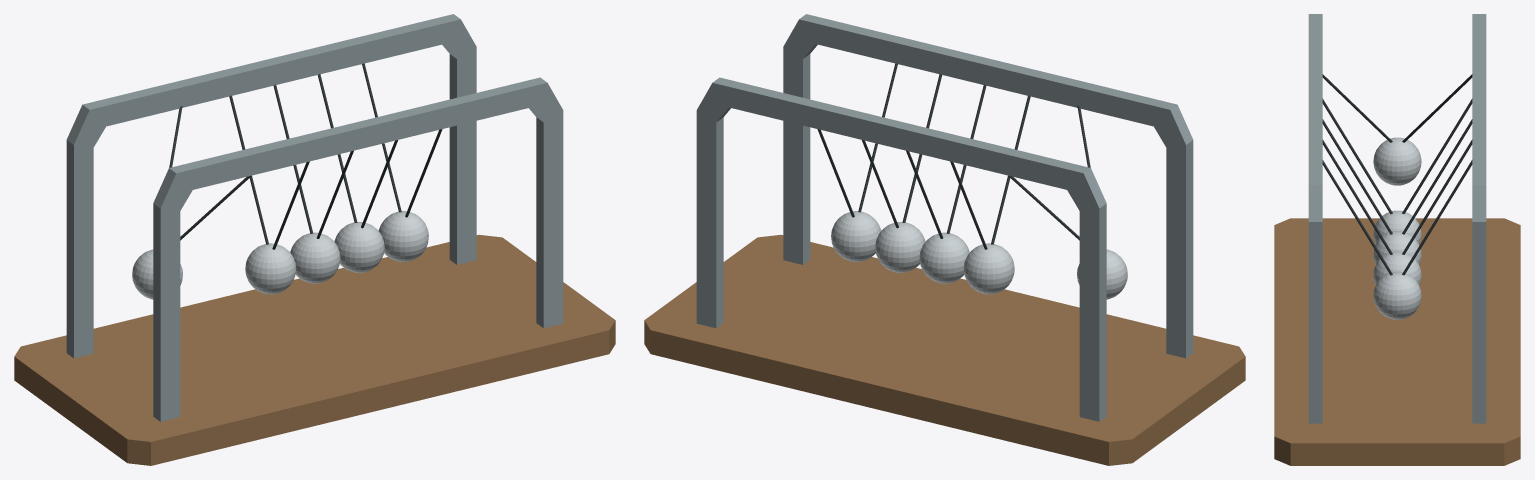
3 views of the same model, side by side, from view 1: azimuth 30°, elevation 25°; view 2: azimuth 150°, elevation 25°; view 3: azimuth 270°, elevation 25° (orthographic). The views are drawn at different scales.
Visible parts, largest first — view 1: WholeChamferedGroundBase, WholeFrontContinuousSuspensionFrame, WholeRearContinuousSuspensionFrame, WholeSuspendedSphere2, WholeSuspendedSphere3, WholeSuspendedSphere5, WholeSuspendedSphere4, WholeSuspendedSphere1; view 2: WholeChamferedGroundBase, WholeRearContinuousSuspensionFrame, WholeFrontContinuousSuspensionFrame, WholeSuspendedSphere2, WholeSuspendedSphere3, WholeSuspendedSphere5, WholeSuspendedSphere4, WholeSuspendedSphere1; view 3: WholeChamferedGroundBase, WholeFrontContinuousSuspensionFrame, WholeRearContinuousSuspensionFrame, WholeSuspendedSphere5, WholeSuspendedSphere1, WholeSuspendedSphere4, WholeSuspendedSphere3, WholeSuspendedSphere2, WholeSphere5FrontSuspensionCord, WholeSphere5RearSuspensionCord, WholeSphere2FrontSuspensionCord, WholeSphere2RearSuspensionCord (+6 smaller).
Boxes of the visible parts, x1,y1,x2,y2 form: WholeChamferedGroundBase: (14,234,615,465); WholeFrontContinuousSuspensionFrame: (153,77,563,421); WholeRearContinuousSuspensionFrame: (66,14,476,358); WholeSuspendedSphere2: (245,243,296,294); WholeSuspendedSphere3: (290,232,340,283); WholeSuspendedSphere5: (378,211,428,261); WholeSuspendedSphere4: (334,222,384,272); WholeSuspendedSphere1: (132,249,182,299); WholeChamferedGroundBase: (644,234,1245,465); WholeRearContinuousSuspensionFrame: (696,77,1106,421); WholeFrontContinuousSuspensionFrame: (783,14,1193,358); WholeSuspendedSphere2: (963,243,1014,294); WholeSuspendedSphere3: (919,232,969,283); WholeSuspendedSphere5: (831,211,881,261); WholeSuspendedSphere4: (875,222,925,272); WholeSuspendedSphere1: (1077,249,1127,299); WholeChamferedGroundBase: (1274,218,1520,465); WholeFrontContinuousSuspensionFrame: (1308,14,1322,423); WholeRearContinuousSuspensionFrame: (1472,14,1486,423); WholeSuspendedSphere5: (1373,271,1421,319); WholeSuspendedSphere1: (1373,137,1421,185); WholeSuspendedSphere4: (1373,251,1421,284); WholeSuspendedSphere3: (1373,231,1421,264); WholeSuspendedSphere2: (1373,210,1421,244); WholeSphere5FrontSuspensionCord: (1322,160,1392,275); WholeSphere5RearSuspensionCord: (1402,160,1472,275); WholeSphere2FrontSuspensionCord: (1322,98,1392,213); WholeSphere2RearSuspensionCord: (1402,98,1472,213).
Size of the model in its own units: 0.618 by 0.325 by 0.286.
